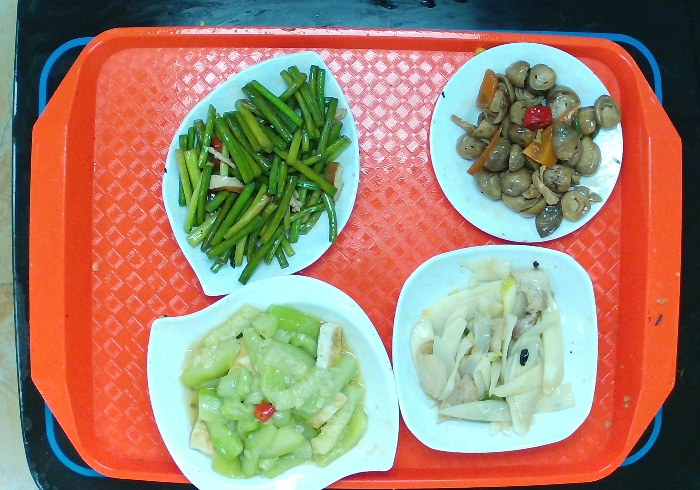RJxy-Da_Du_Pan: (156, 44, 370, 304)
RJxy-Shuang_Jiao_Pan: (136, 272, 396, 490)
RJxy-Si_Fang_Wan: (389, 237, 601, 458)
RJxy-Xiao_Yuan_Die: (429, 40, 635, 253)
